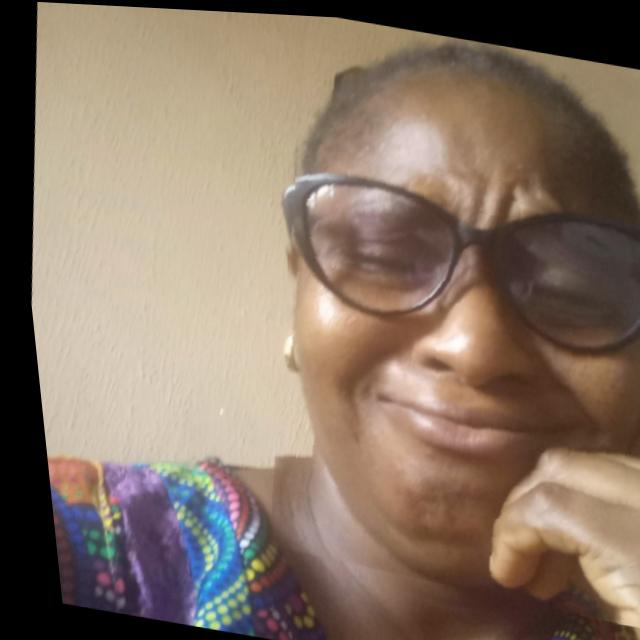sad: (218, 9, 640, 621)
